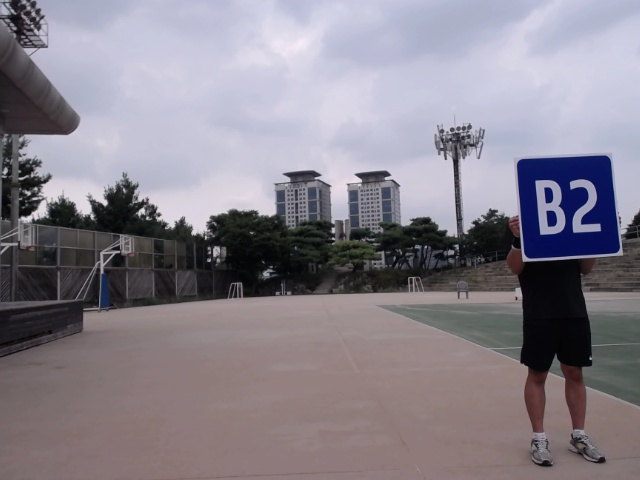delivery_b2: (514, 152, 625, 263)
